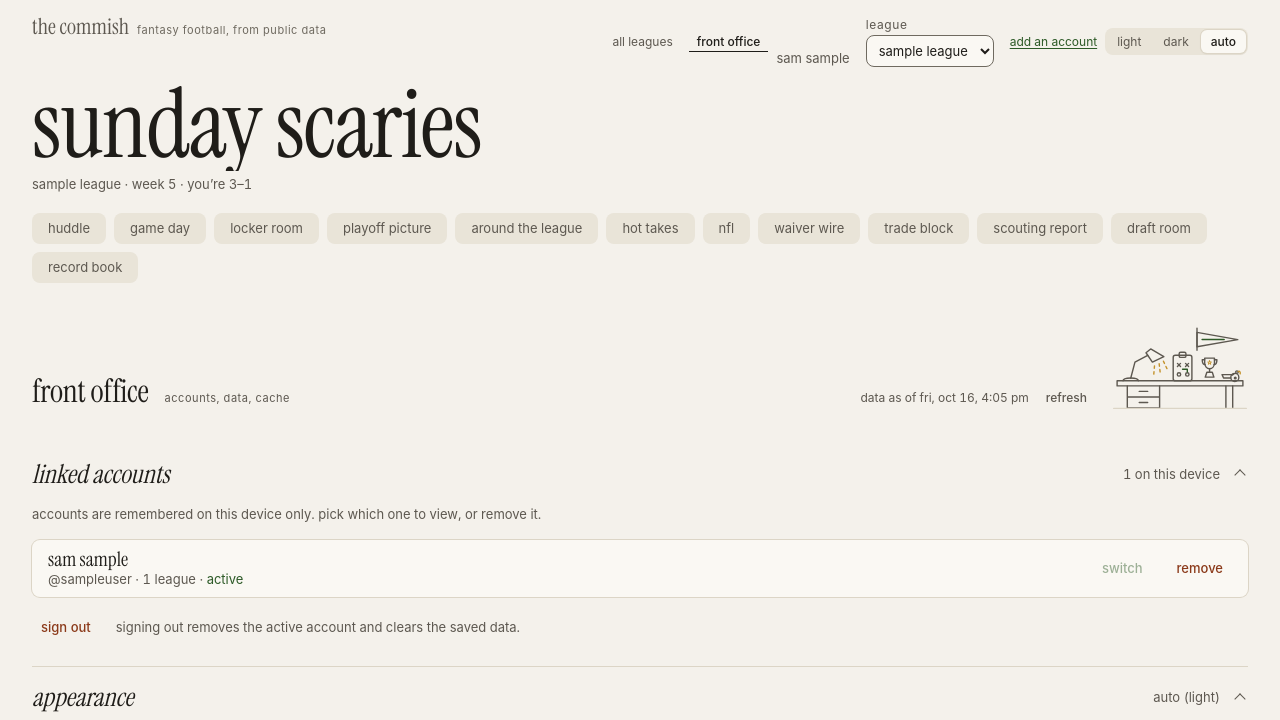
Test case: Settings › Sign out removes the account, clears the cache and goes to sign-in
Click the button "Sign out" at (66, 628), box [32, 613, 100, 642]
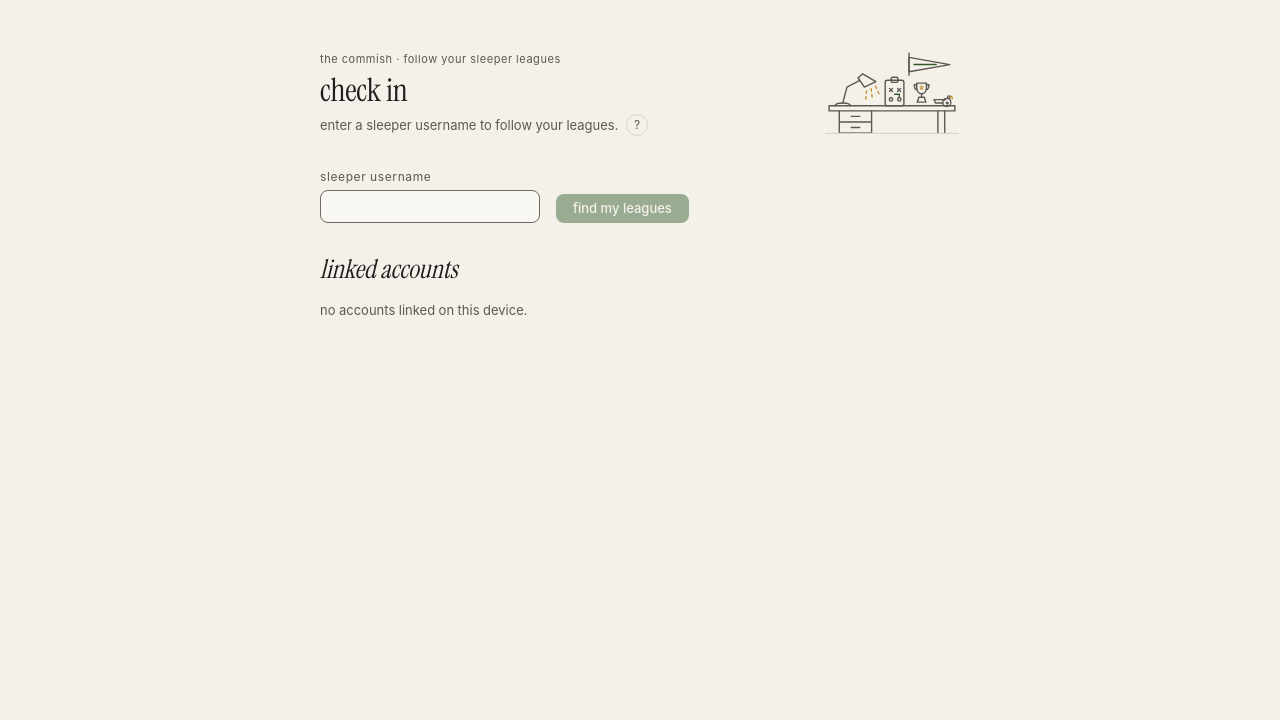
Check: the field labelled "Sleeper username" is shown, box [320, 190, 540, 223]
